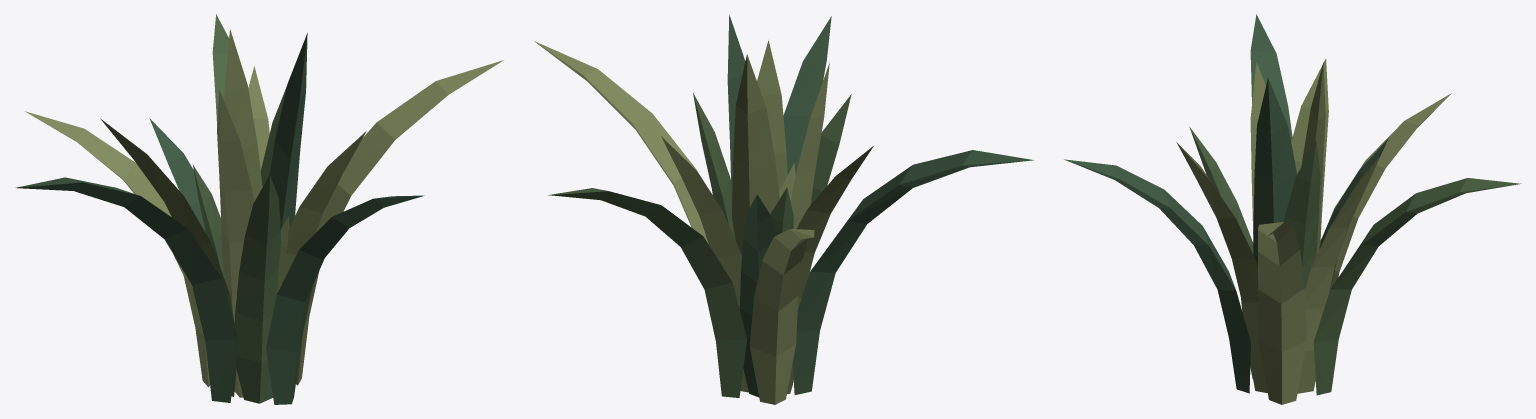
The model's file is grass-tuft-5ccff0.glb.
The picture shows the model from 3 angles, left to right: view 1: azimuth 30°, elevation 25°; view 2: azimuth 150°, elevation 25°; view 3: azimuth 270°, elevation 25°; orthographic projection. The views are drawn at different scales.
Visible parts, largest first — view 1: grass-tuft-mesh; view 2: grass-tuft-mesh; view 3: grass-tuft-mesh.
Boxes of the visible parts, x1,y1,x2,y2 form: grass-tuft-mesh: (15, 14, 503, 404); grass-tuft-mesh: (534, 15, 1033, 404); grass-tuft-mesh: (1064, 14, 1521, 404).
Size of the model in its own units: 0.6666 by 0.4511 by 0.574.
